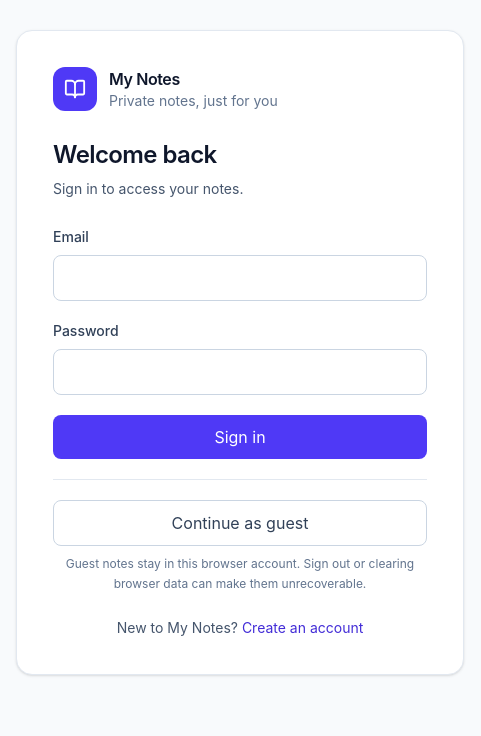
Scenario: AuthScreen › explains that Supabase anonymous sign-ins must be enabled
Click the button "Continue as guest" at x=240, y=522, box [53, 500, 427, 546]
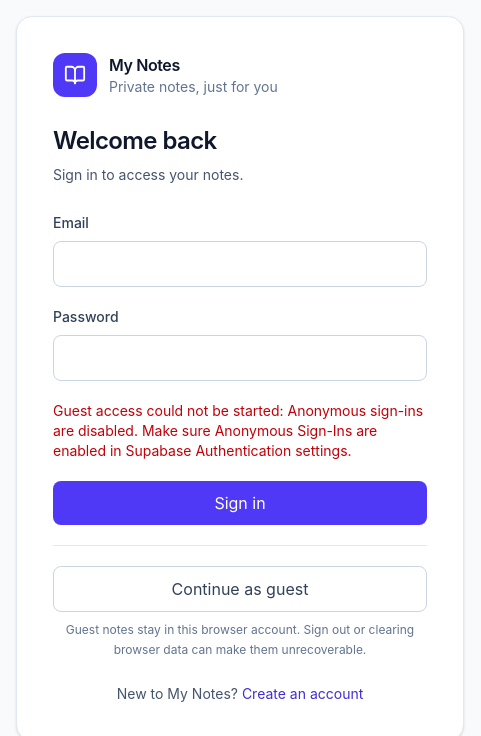
Now the message shows "Make sure Anonymous Sign-Ins are enabled", box [53, 402, 423, 459]
